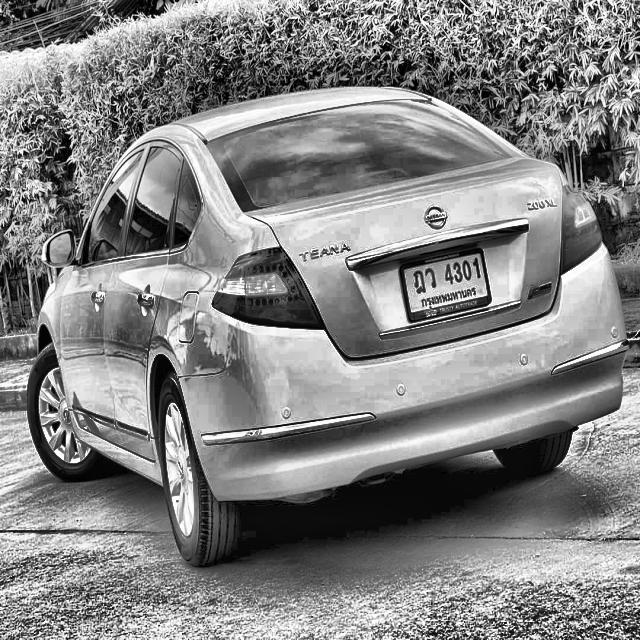license-plate: (398, 242, 495, 327)
